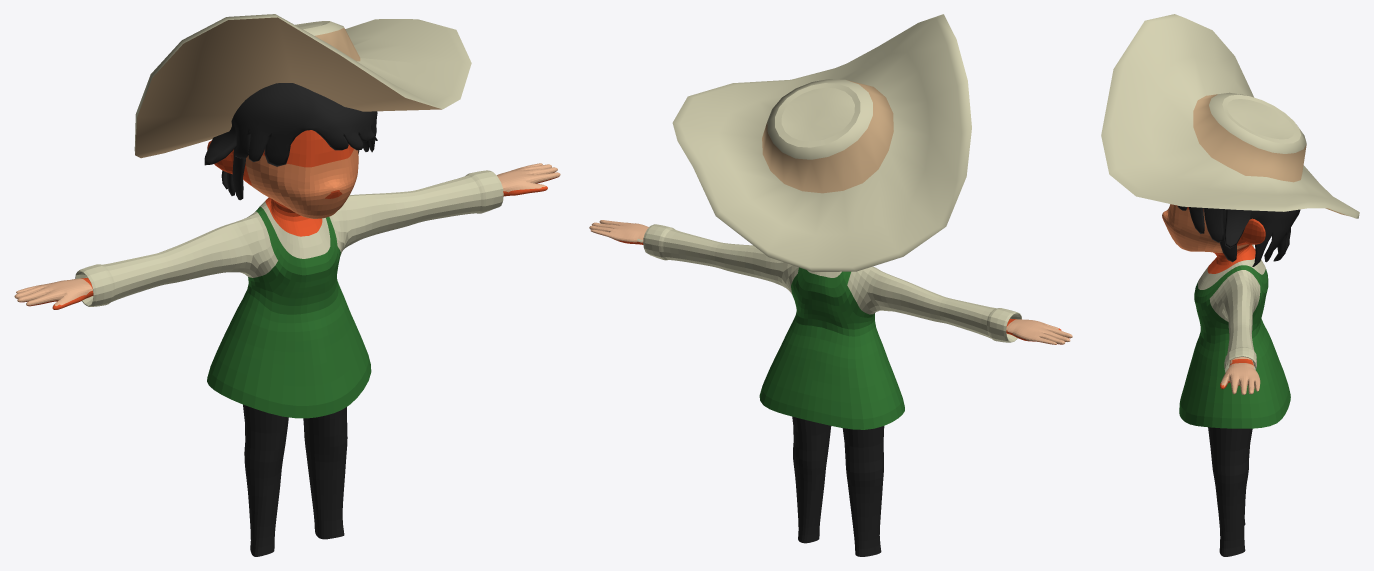
The model's file is fbx_rg_gardener_v2.fbx.
3 renders of one model, left to right at view 1: azimuth 30°, elevation 25°; view 2: azimuth 150°, elevation 25°; view 3: azimuth 270°, elevation 25°, orthographic. The views are drawn at different scales.
Visible parts, largest first — view 1: md_gardener, rg_gardener_v1:obj_hat_v1:md_hat, rg_gardener_v1:obj_hairtop_v1:hair_top1; view 2: rg_gardener_v1:obj_hat_v1:md_hat, md_gardener; view 3: rg_gardener_v1:obj_hat_v1:md_hat, md_gardener, rg_gardener_v1:obj_hairtop_v1:hair_top1.
Boxes of the visible parts, x1,y1,x2,y2 form: md_gardener: [14, 130, 560, 556]; rg_gardener_v1:obj_hat_v1:md_hat: [134, 14, 471, 158]; rg_gardener_v1:obj_hairtop_v1:hair_top1: [204, 83, 377, 200]; rg_gardener_v1:obj_hat_v1:md_hat: [672, 14, 971, 271]; md_gardener: [589, 220, 1072, 556]; rg_gardener_v1:obj_hat_v1:md_hat: [1101, 14, 1359, 218]; md_gardener: [1162, 204, 1290, 556]; rg_gardener_v1:obj_hairtop_v1:hair_top1: [1177, 205, 1300, 266].
Bounding box in the file's own units: 159 × 163 × 77.89.
